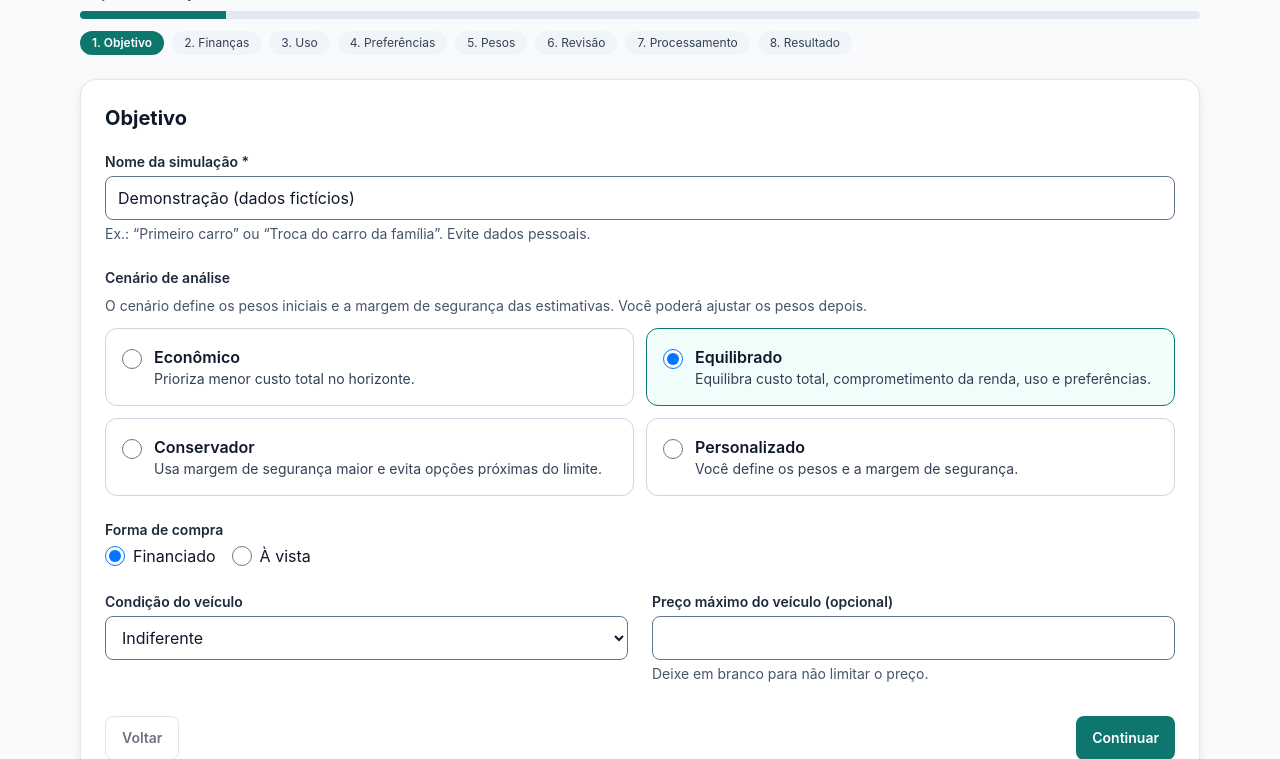
Test: falhas da API FIPE › o modo demonstração nunca consulta a FIPE ao vivo
Earlier steps of the test are not shown.
(page scrolled)
Check: the heading "Objetivo" is shown, box [105,106,187,130]
Click the button "Continuar". click: (1126, 738)
box: [1076,716,1175,758]
(page scrolled)
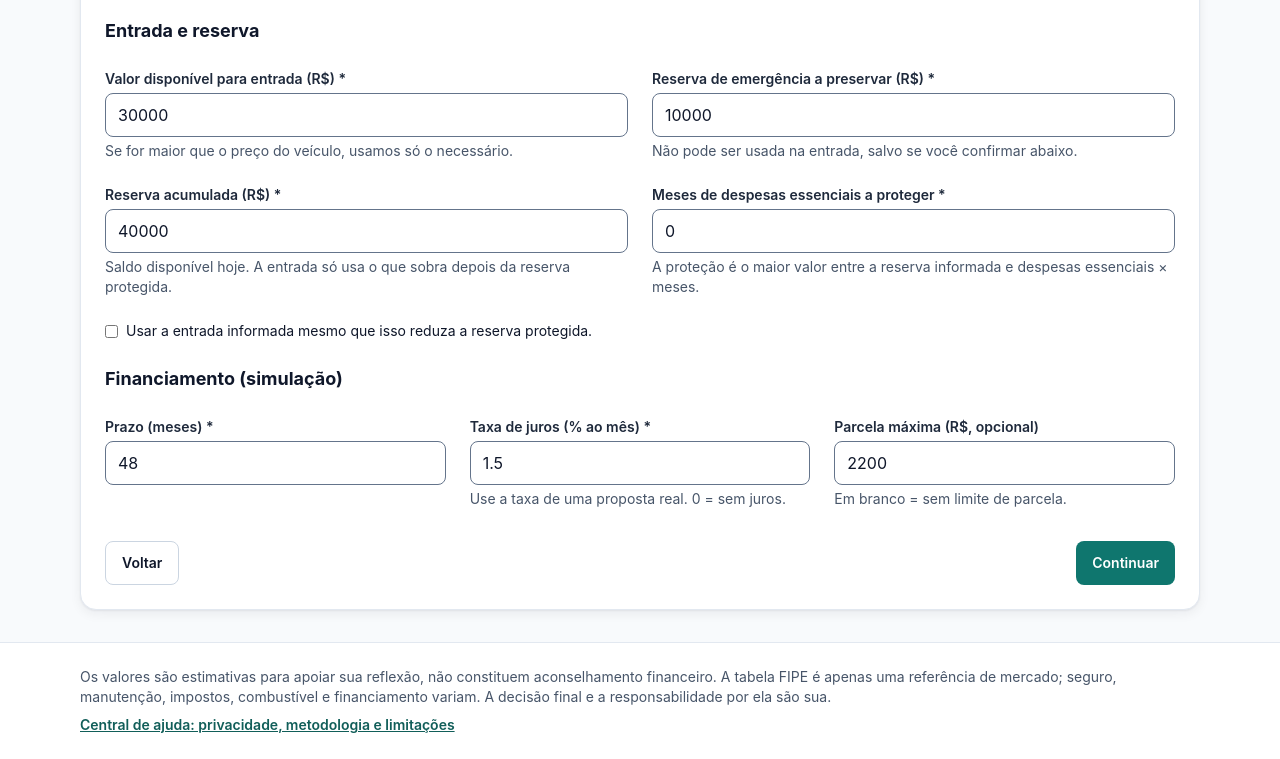
Click the button "Continuar". click: (1126, 563)
box: [1076,541,1175,585]
(page scrolled)
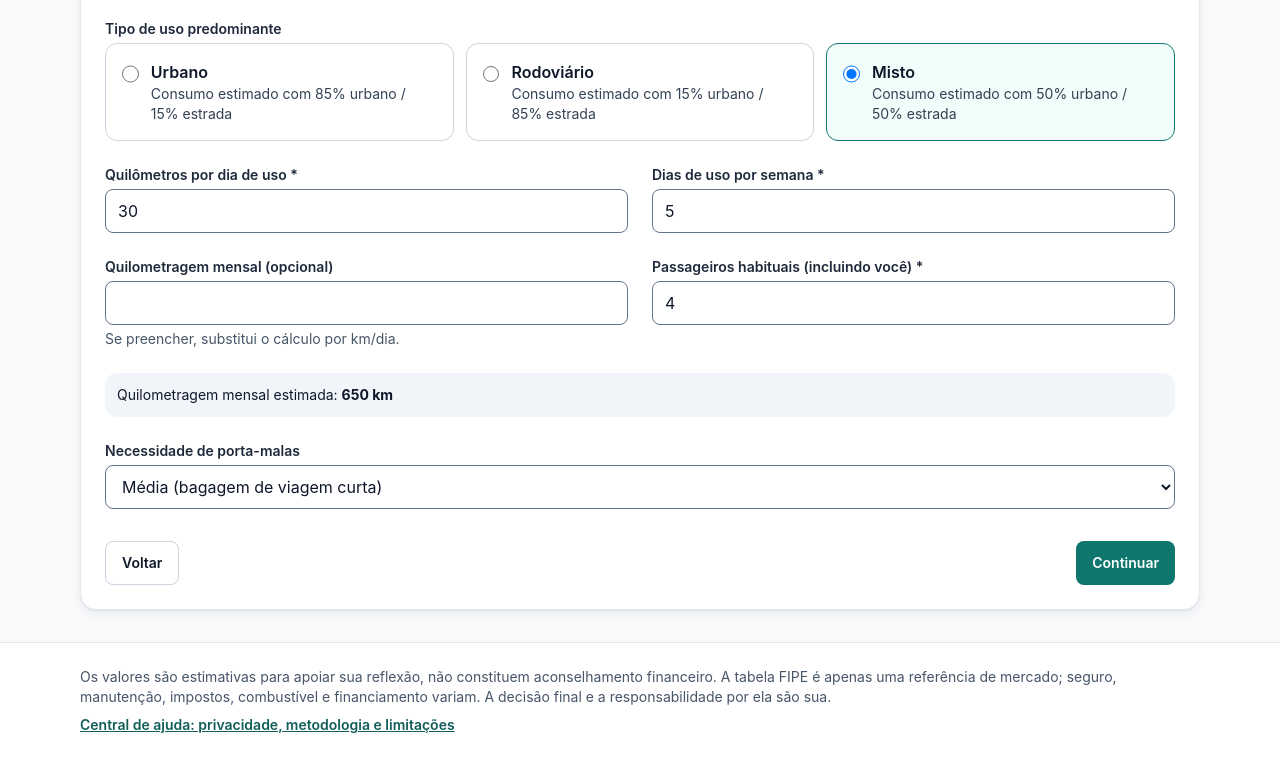
Click the button "Continuar". click: (1126, 563)
box: [1076,541,1175,585]
(page scrolled)
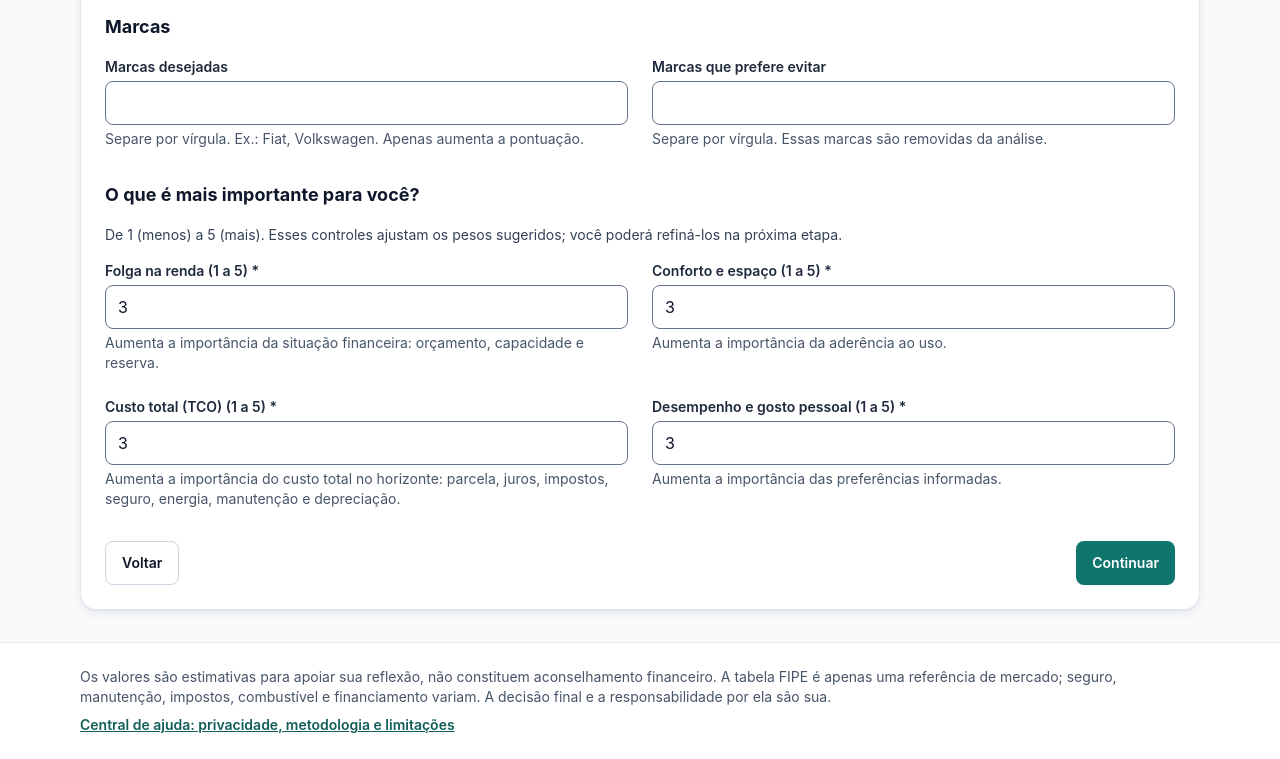
Click the button "Continuar". click: (1126, 563)
box: [1076,541,1175,585]
(page scrolled)
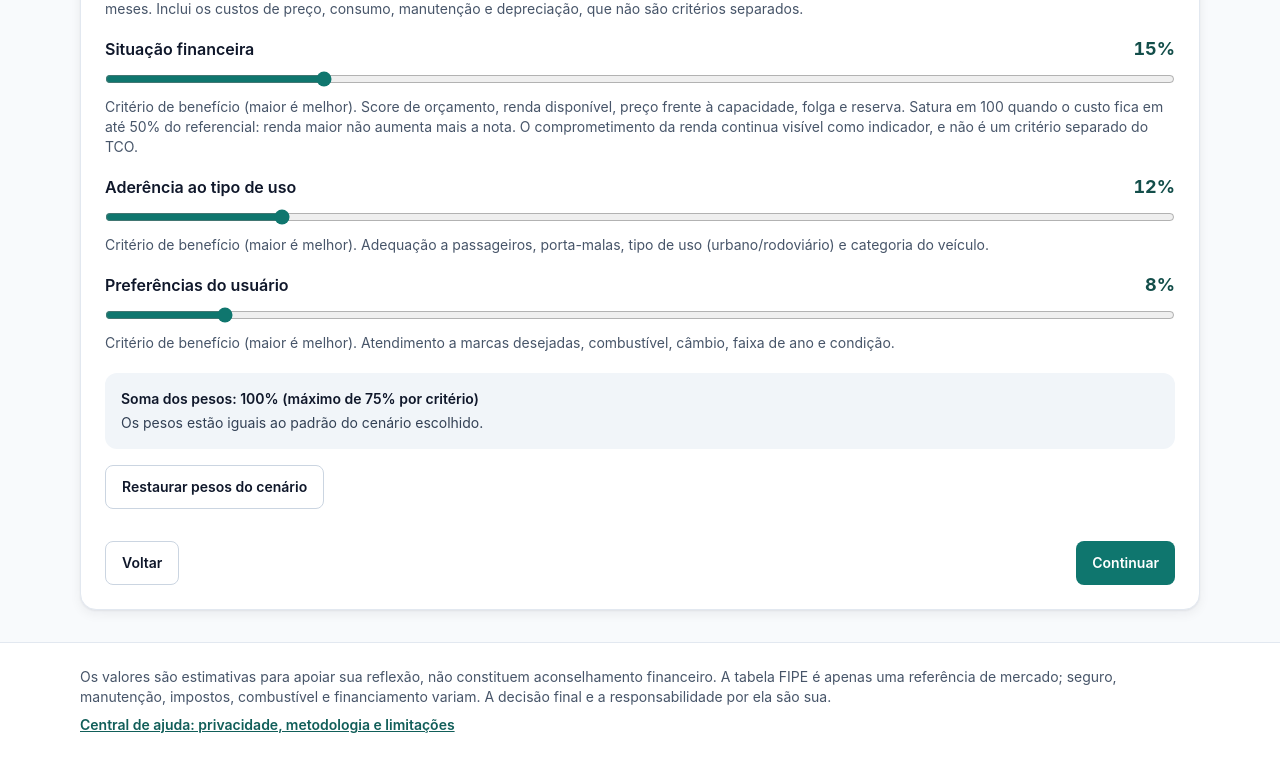
Click the button "Continuar". click: (1126, 563)
box: [1076,541,1175,585]
(page scrolled)
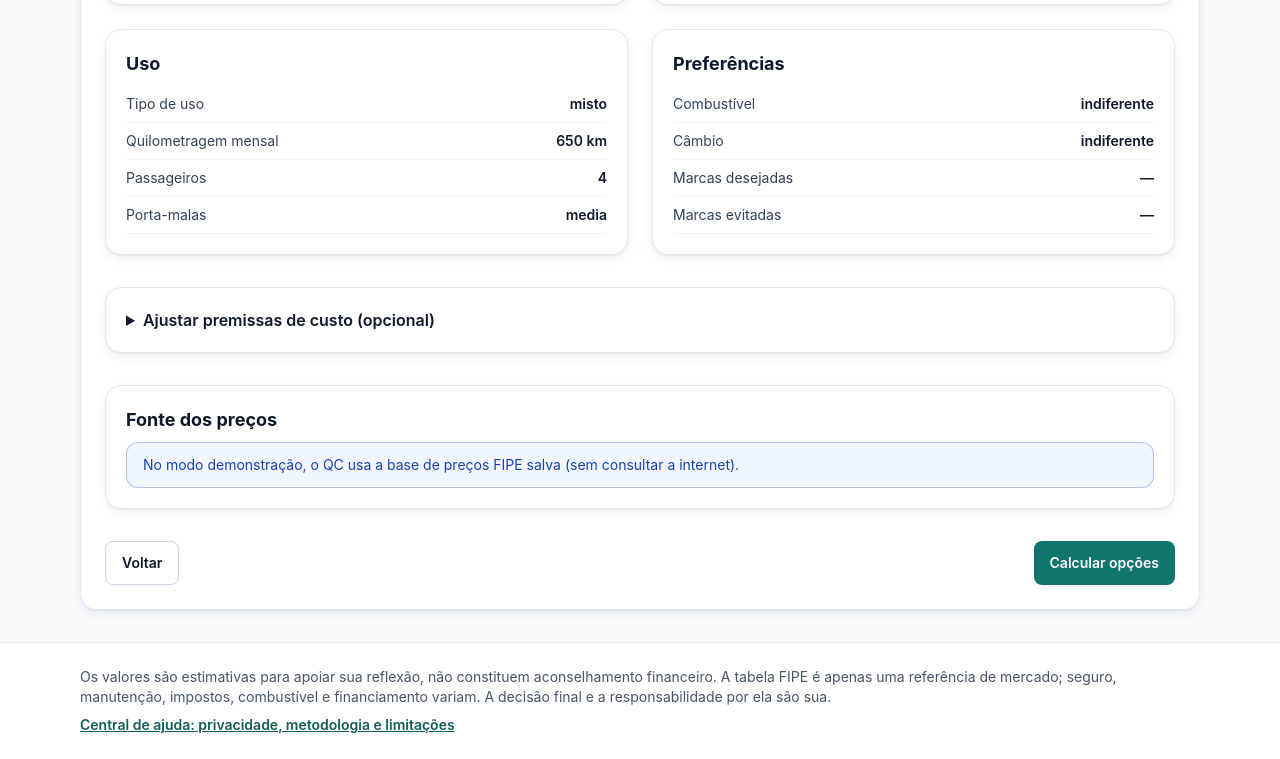
Click the button "Calcular opções". click: (1104, 563)
box: [1034,541,1175,585]
(page scrolled)
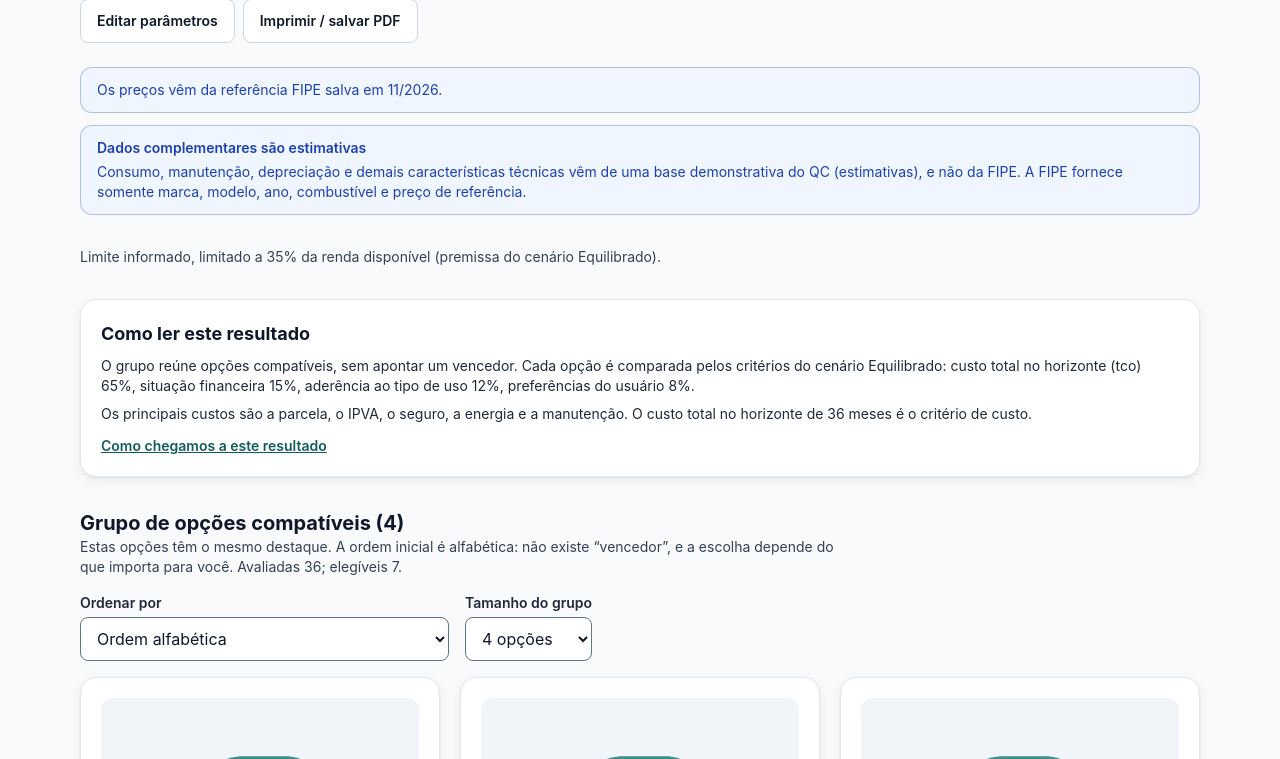
Check: the heading "Grupo de opções compatíveis (4)" is shown, box [80,511,404,535]
